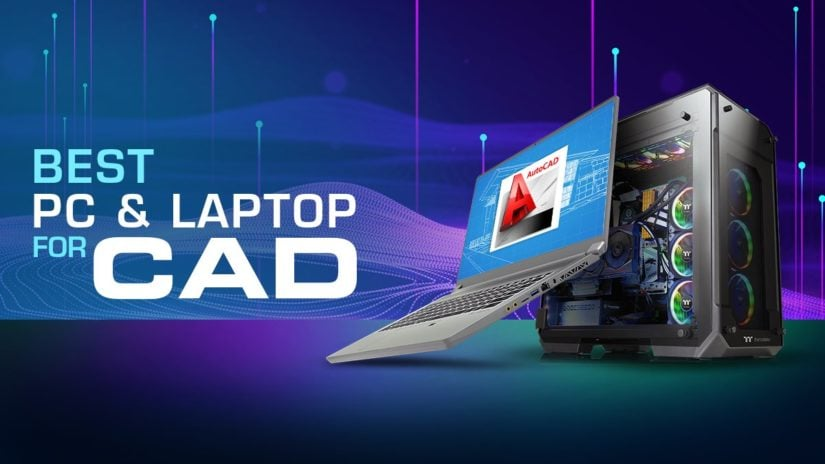Ordinateur: (204, 282, 360, 428)
